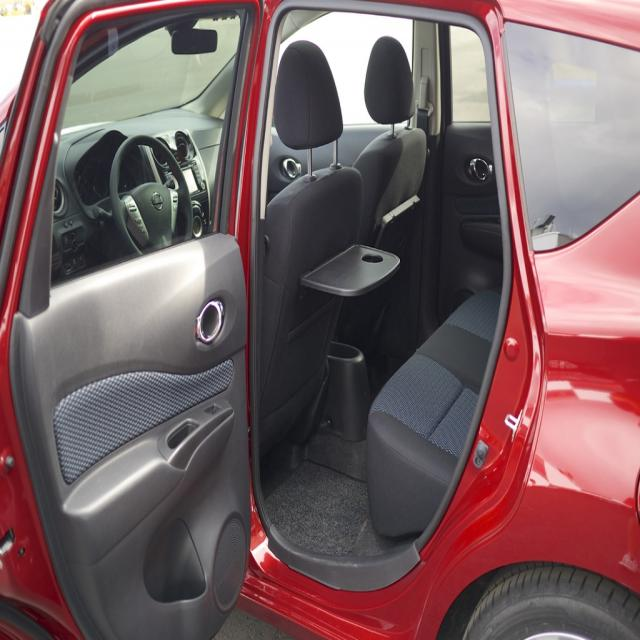other: (23, 0, 576, 640)
